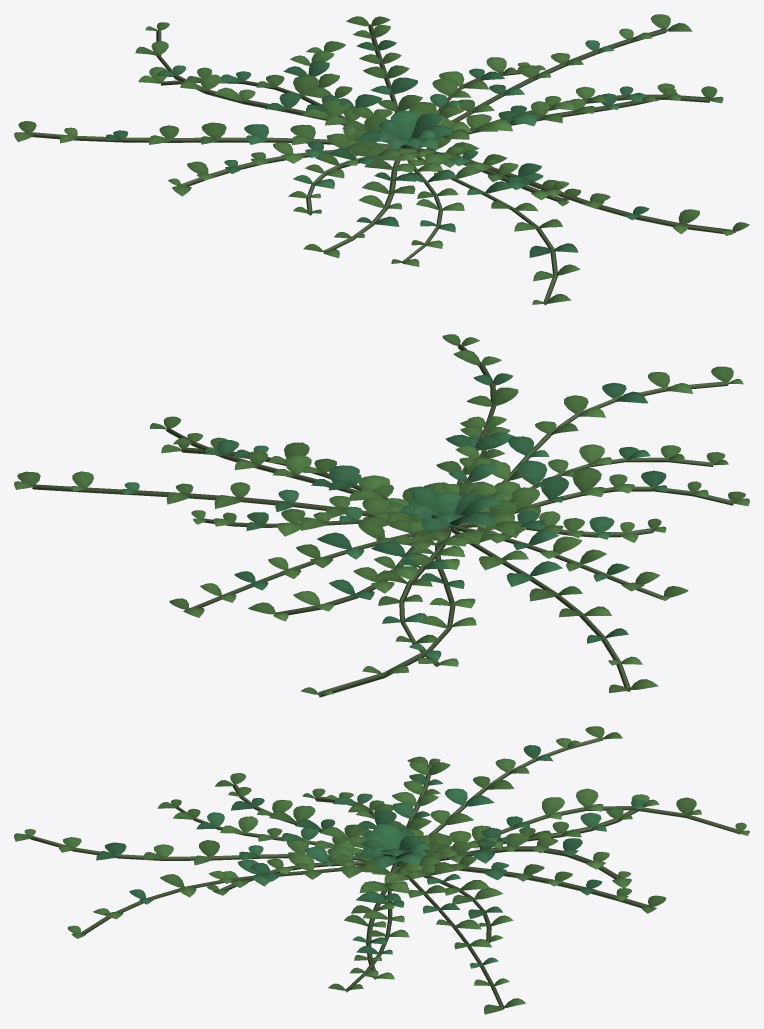
File: Creeper Mat.glb
3 views of the same model, one above another, from view 1: azimuth 30°, elevation 25°; view 2: azimuth 150°, elevation 25°; view 3: azimuth 270°, elevation 25° (orthographic). The views are drawn at different scales.
Parts seen in each view (by area): view 1: Creeper Mat; view 2: Creeper Mat; view 3: Creeper Mat.
Boxes of the visible parts, x1,y1,x2,y2 form: Creeper Mat: (14, 14, 749, 305); Creeper Mat: (14, 334, 749, 697); Creeper Mat: (14, 726, 749, 1014).
Bounding box in the file's own units: 4.45 × 0.2033 × 4.84.
